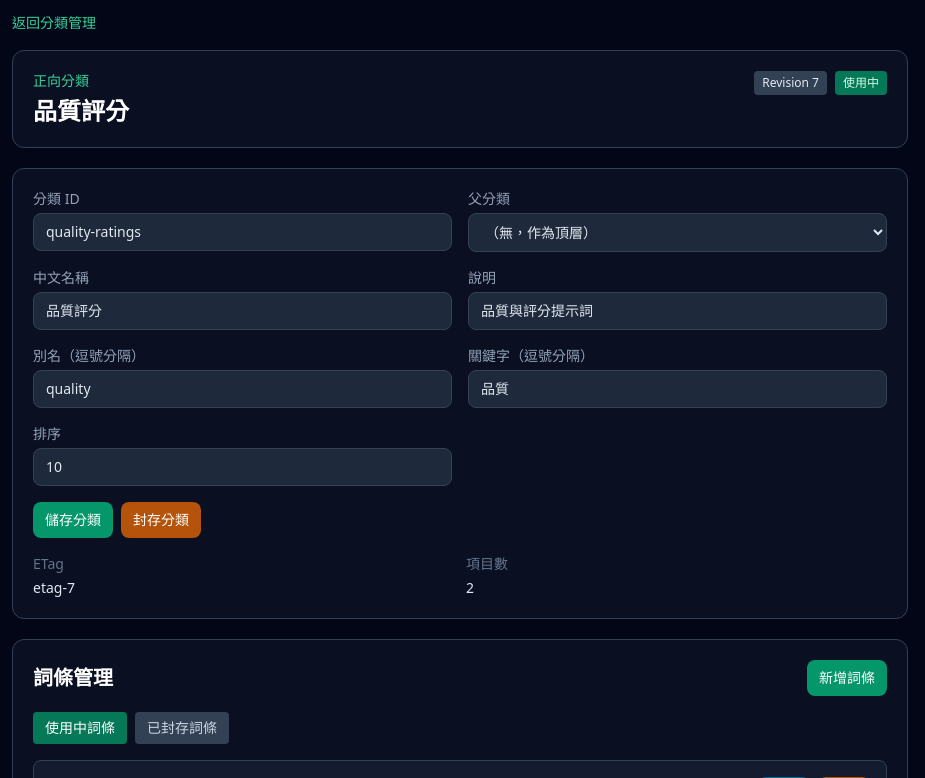
Test: PromptCategoryDetail › edits category metadata with the current token and reloads the latest category
Expected: the heading "品質評分" is shown, [33,95,129,127]
Replace the text in the field named "分類中文名稱" with "新版品質" at (242, 311), box [33,292,452,330]
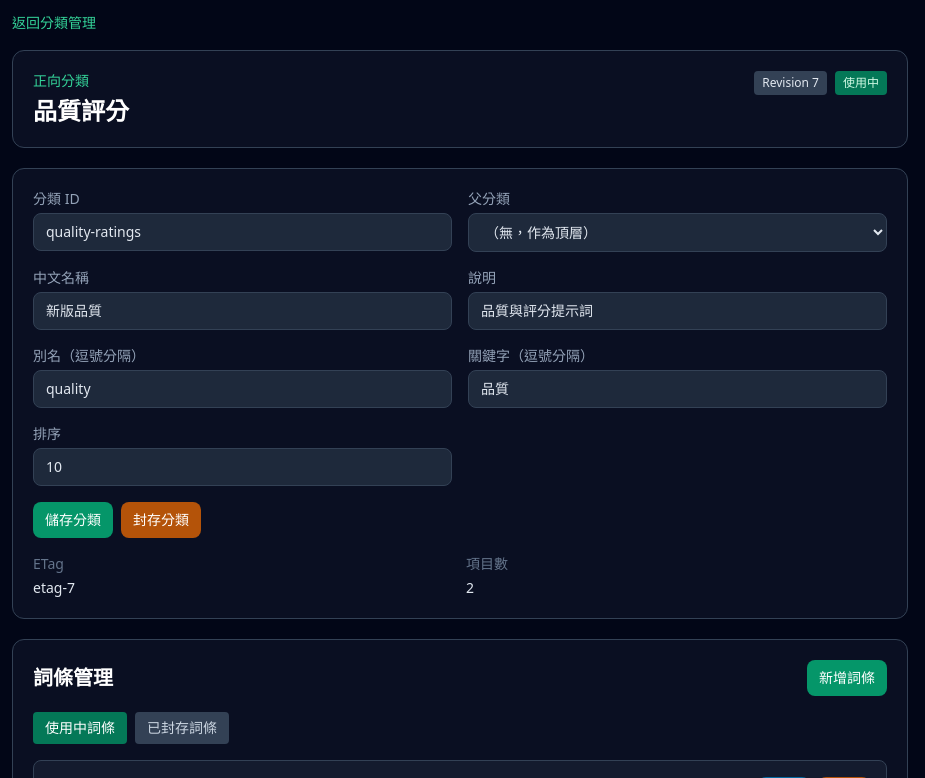
Replace the text in the field named "分類說明" with "新版說明" at (678, 311), box [468,292,887,330]
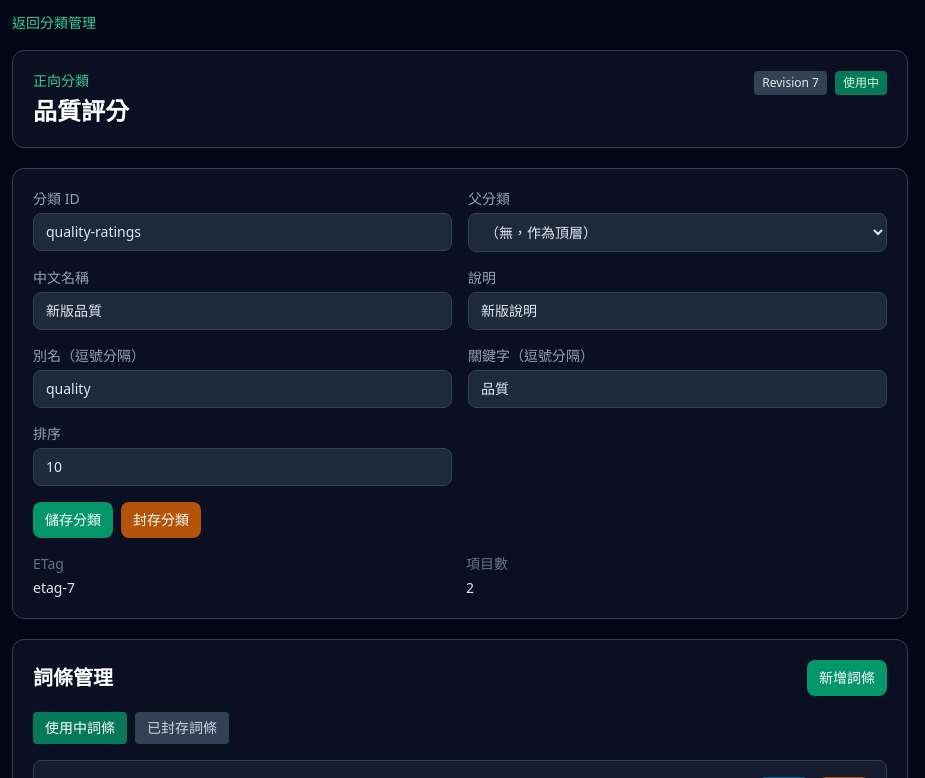
Replace the text in the field named "分類別名" with "quality, rating" at (242, 389), box [33,370,452,408]
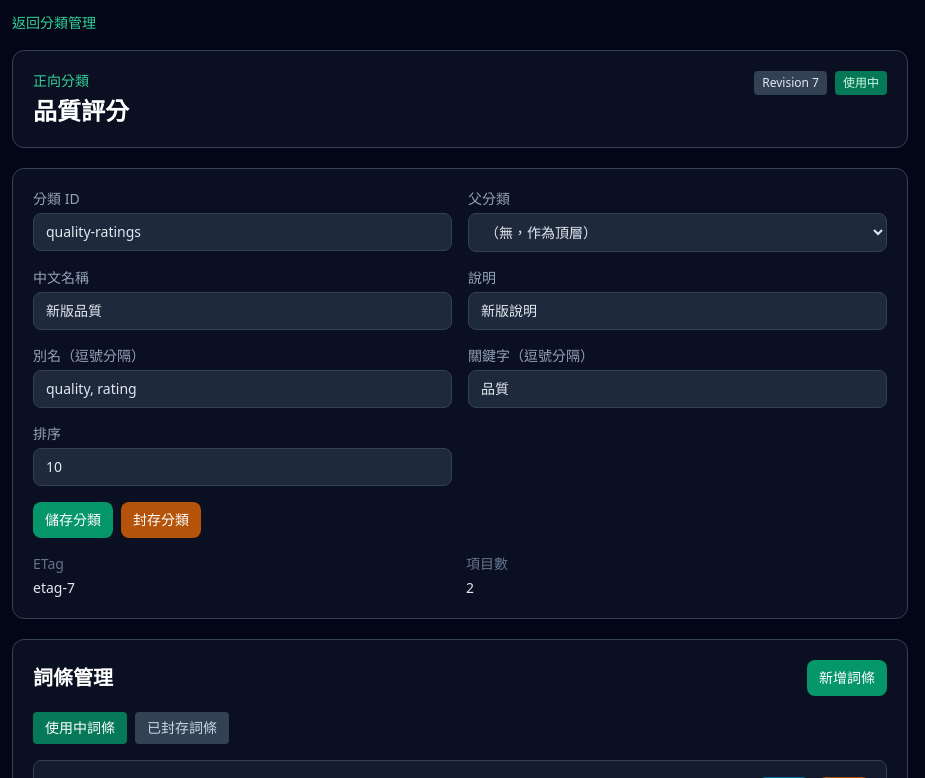
Replace the text in the field named "分類關鍵字" with "品質, 評分" at (678, 389), box [468,370,887,408]
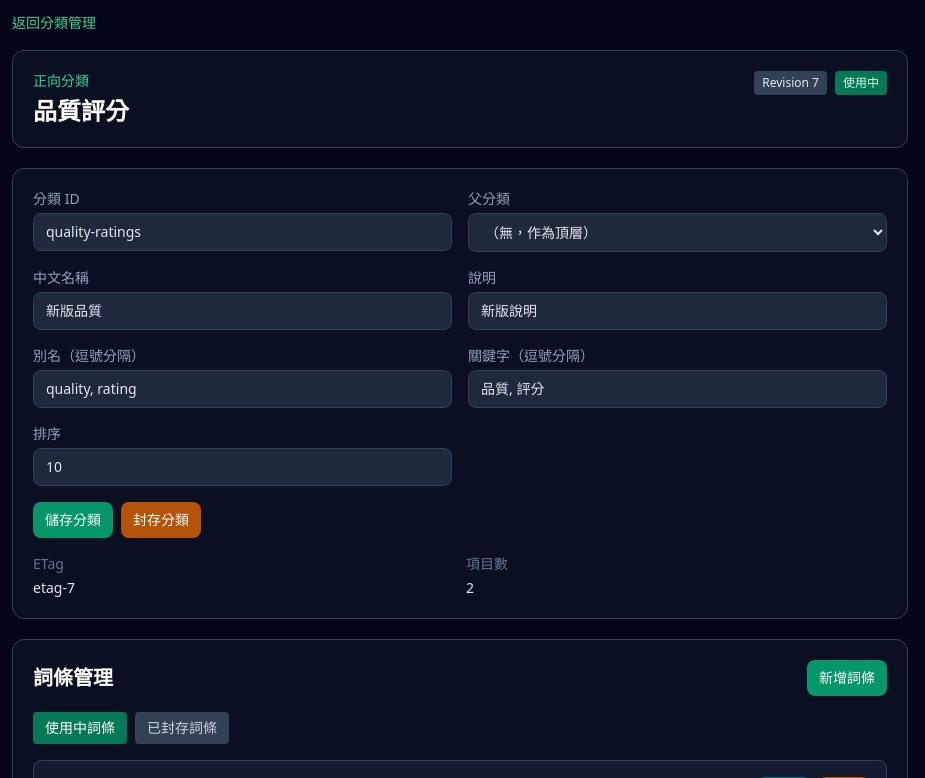
Replace the text in the number field named "分類排序" with "12" at (242, 467), box [33,448,452,486]
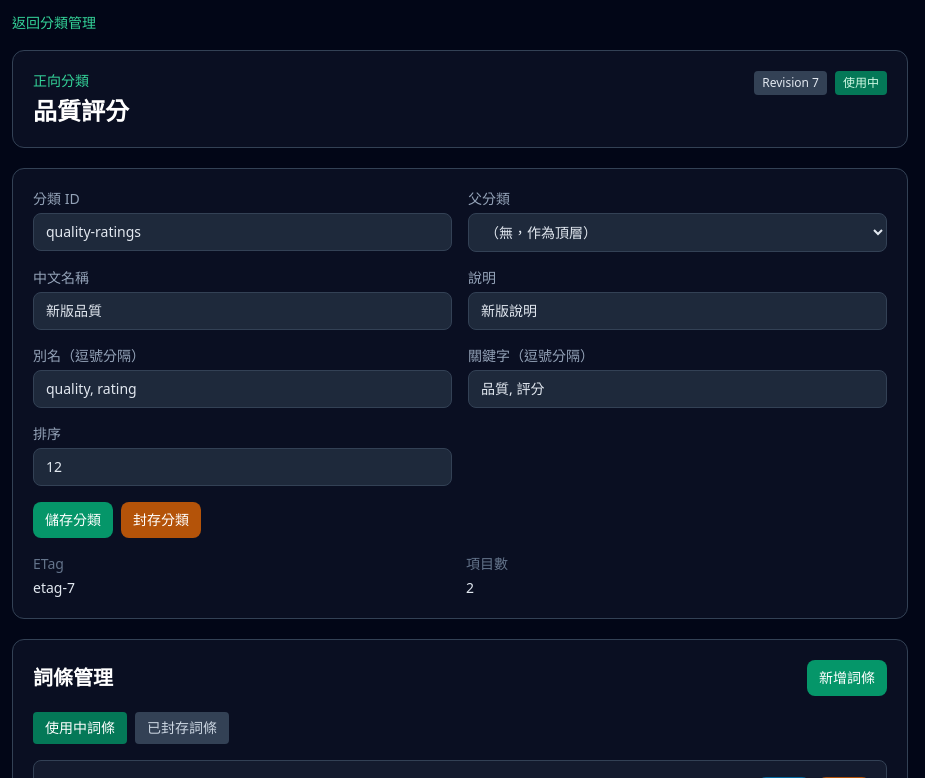
Click the button "儲存分類" at (73, 520), box [33,502,113,538]
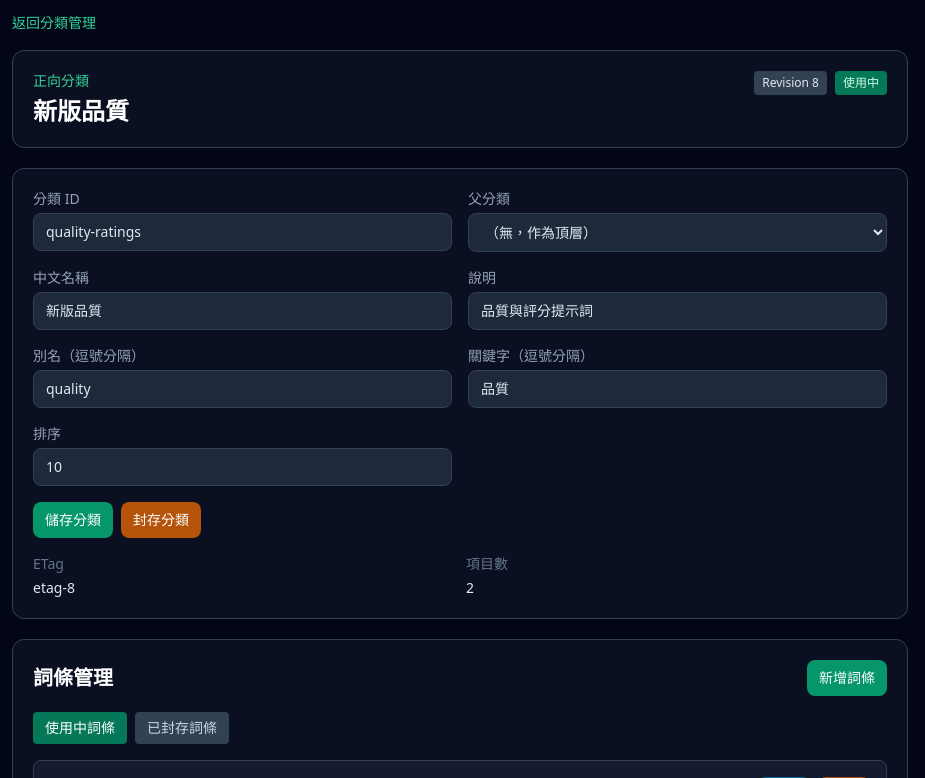
Expected: the heading "新版品質" is shown, [33,95,129,127]
Expected: the text "Revision 8" is shown, [754,71,827,95]
Expected: the text "etag-8" is shown, [33,578,75,597]
